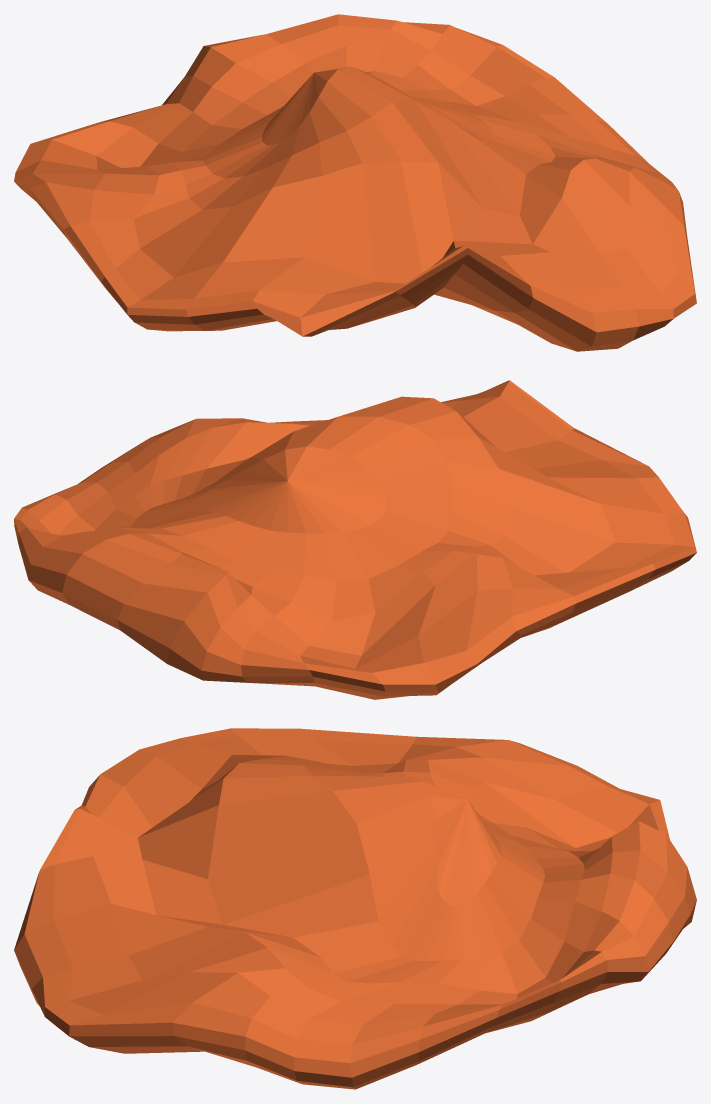
3 renders of one model, top to bottom at view 1: azimuth 30°, elevation 25°; view 2: azimuth 150°, elevation 25°; view 3: azimuth 270°, elevation 25°, orthographic. The views are drawn at different scales.
Parts seen in each view (by area): view 1: 球体; view 2: 球体; view 3: 球体.
Boxes of the visible parts, x1,y1,x2,y2 form: 球体: (14, 14, 696, 351); 球体: (14, 380, 696, 699); 球体: (14, 728, 696, 1089).
Size of the model in its own units: 234 by 228 by 71.35.
